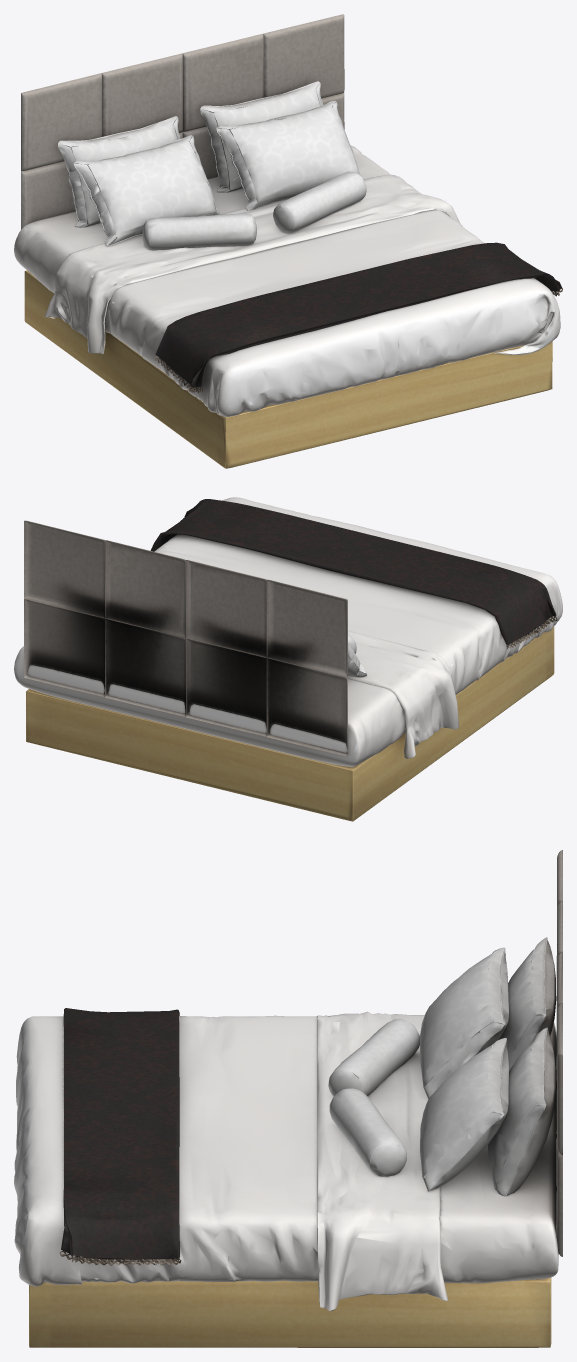
Rendered from raw_model.obj.
3 renders of one model, top to bottom at view 1: azimuth 30°, elevation 25°; view 2: azimuth 150°, elevation 25°; view 3: azimuth 270°, elevation 25°, orthographic. The views are drawn at different scales.
Visible parts, largest first — view 1: solid_003, solid_002, solid_001, solid_004, solid_006; view 2: solid_001, solid_003, solid_004, solid_006, solid_002; view 3: solid_003, solid_002, solid_004, solid_006, solid_001, solid_005.
Boxes of the visible parts, <box> form: solid_003: <box>14,145,560,416</box>; solid_002: <box>57,81,366,250</box>; solid_001: <box>21,14,344,229</box>; solid_004: <box>24,270,552,468</box>; solid_006: <box>155,242,561,387</box>; solid_001: <box>24,520,347,756</box>; solid_003: <box>14,497,562,767</box>; solid_004: <box>26,626,554,821</box>; solid_006: <box>150,499,556,644</box>; solid_002: <box>347,635,366,677</box>; solid_003: <box>14,1011,558,1310</box>; solid_002: <box>328,937,556,1196</box>; solid_004: <box>29,1277,551,1347</box>; solid_006: <box>61,1008,179,1259</box>; solid_001: <box>556,850,562,1256</box>; solid_005: <box>59,1250,181,1265</box>.
Size of the model in its own units: 2.38 by 1.35 by 2.29.
Materials: 1 (1 with a texture image).
